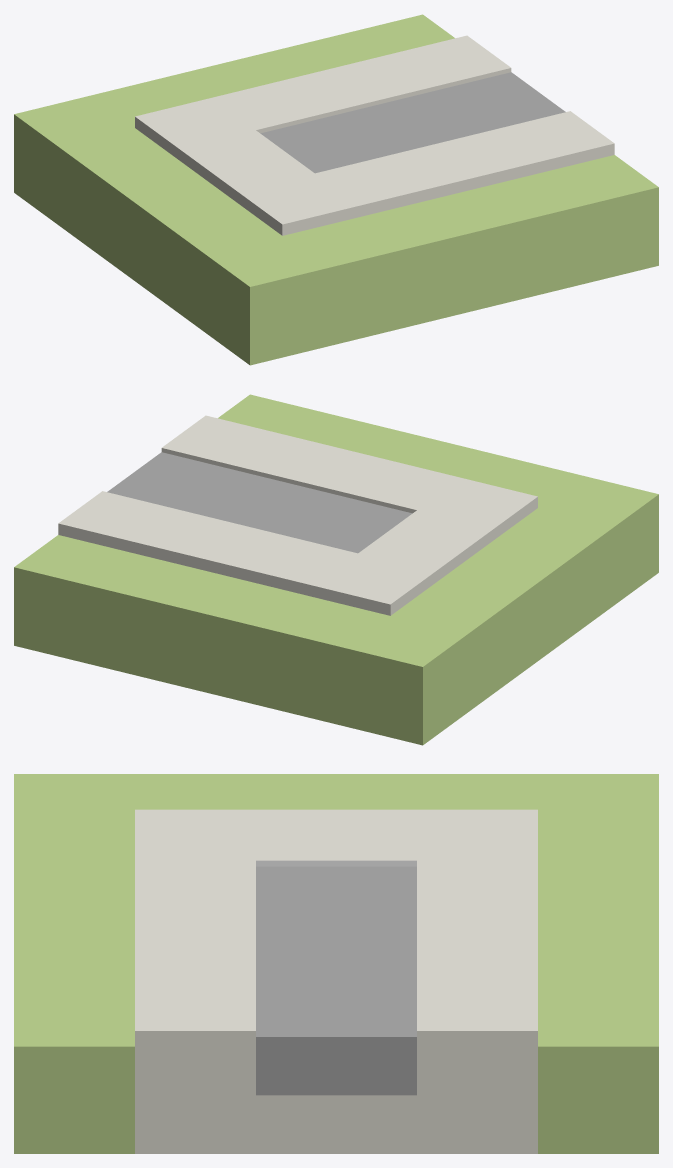
Rendered from road_tile_040.glb.
3 views of the same model, one above another, from view 1: azimuth 30°, elevation 25°; view 2: azimuth 150°, elevation 25°; view 3: azimuth 270°, elevation 25° (orthographic). The views are drawn at different scales.
Visible parts, largest first — view 1: roadTile_040; view 2: roadTile_040; view 3: roadTile_040.
Boxes of the visible parts, box(x1,y1,x2,y2) form: roadTile_040: box(14, 14, 658, 365); roadTile_040: box(14, 394, 658, 745); roadTile_040: box(14, 774, 658, 1153).
Bounding box in the file's own units: 3 × 0.63 × 3.
